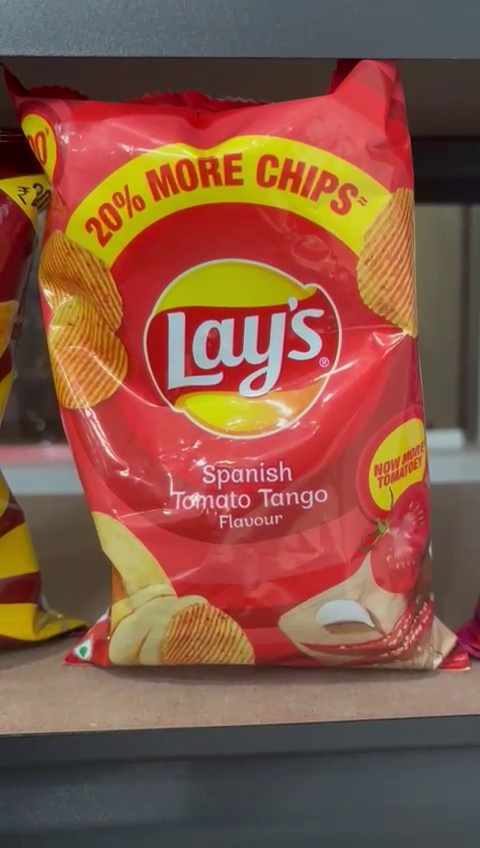Lays: (9, 93, 459, 678)
